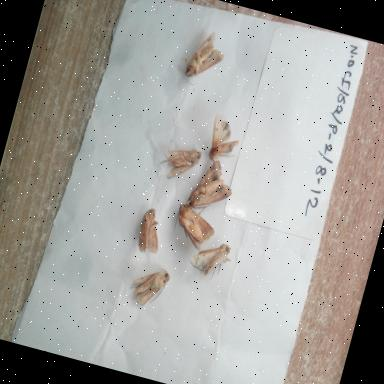abw: (170, 20, 236, 98), (180, 152, 242, 224), (122, 256, 178, 317), (196, 107, 250, 169), (163, 197, 222, 252), (184, 232, 238, 288), (153, 138, 206, 193), (127, 200, 172, 261)
